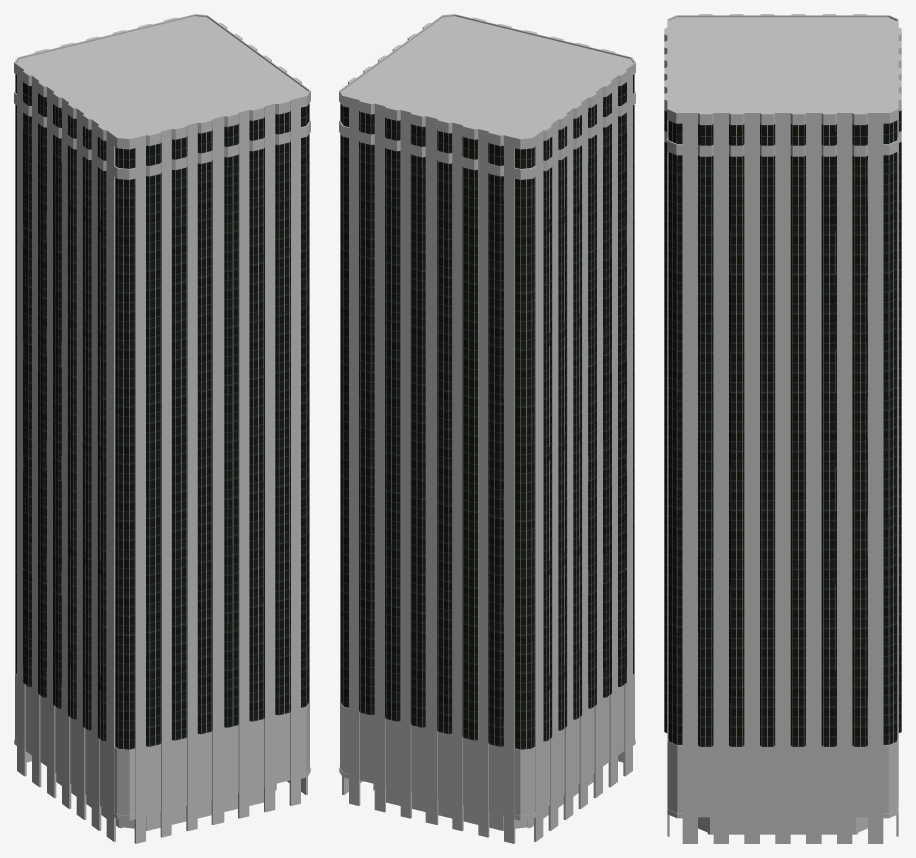
3 renders of one model, left to right at view 1: azimuth 30°, elevation 25°; view 2: azimuth 150°, elevation 25°; view 3: azimuth 270°, elevation 25°, orthographic. The views are drawn at different scales.
Visible parts, largest first — view 1: EC-016; view 2: EC-016; view 3: EC-016.
Boxes of the visible parts, left/top/right/bottom form: EC-016: left=14, top=14, right=310, bottom=843; EC-016: left=339, top=14, right=635, bottom=843; EC-016: left=664, top=14, right=901, bottom=843.
Size of what is drawn, in the model's own units: 32.8 by 111 by 32.8.
